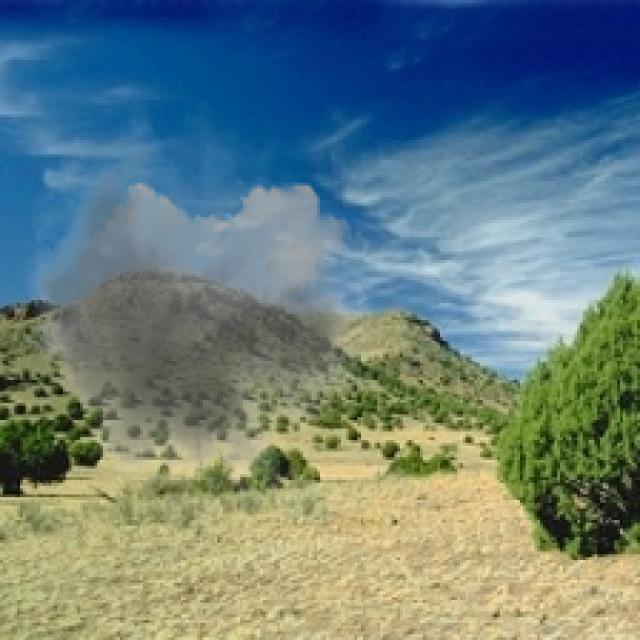smoke: (12, 97, 374, 517)
